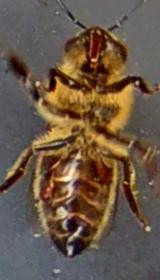varroa_mite: (35, 172, 60, 206)
